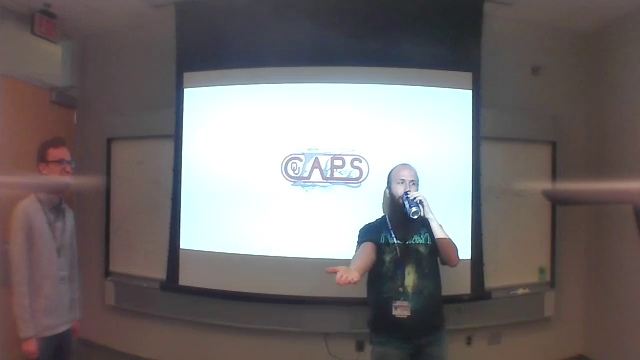land: (321, 259, 364, 292)
